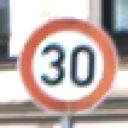speed_limit_30: (16, 16, 120, 118)
